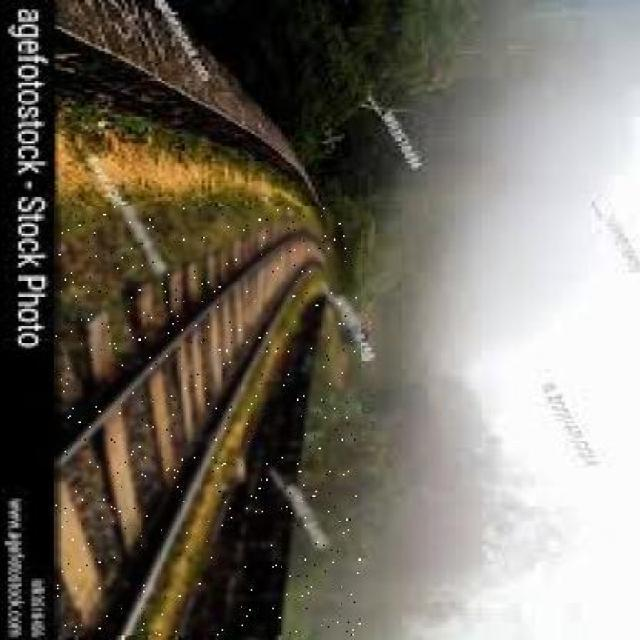rail: (55, 208, 358, 636)
